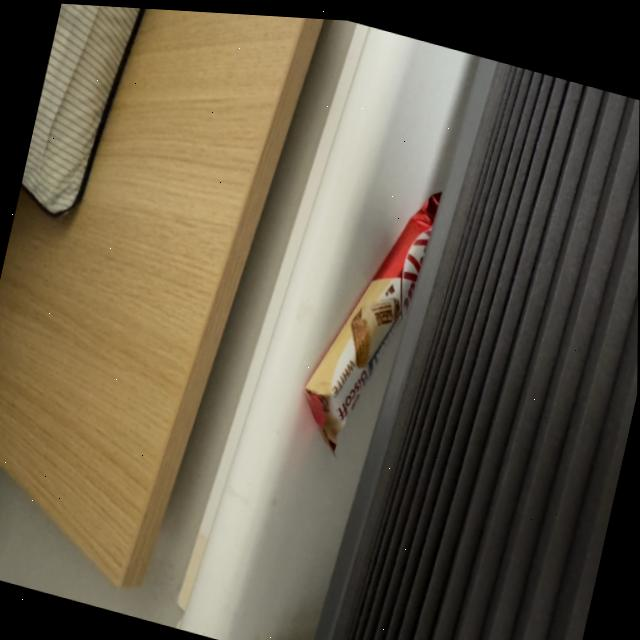chocolate: (288, 159, 450, 471)
